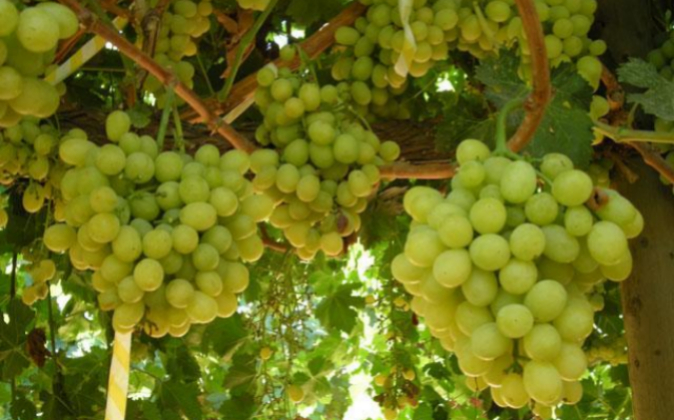Green grapes: (424, 139, 616, 409), (79, 121, 244, 329), (249, 70, 381, 254)
